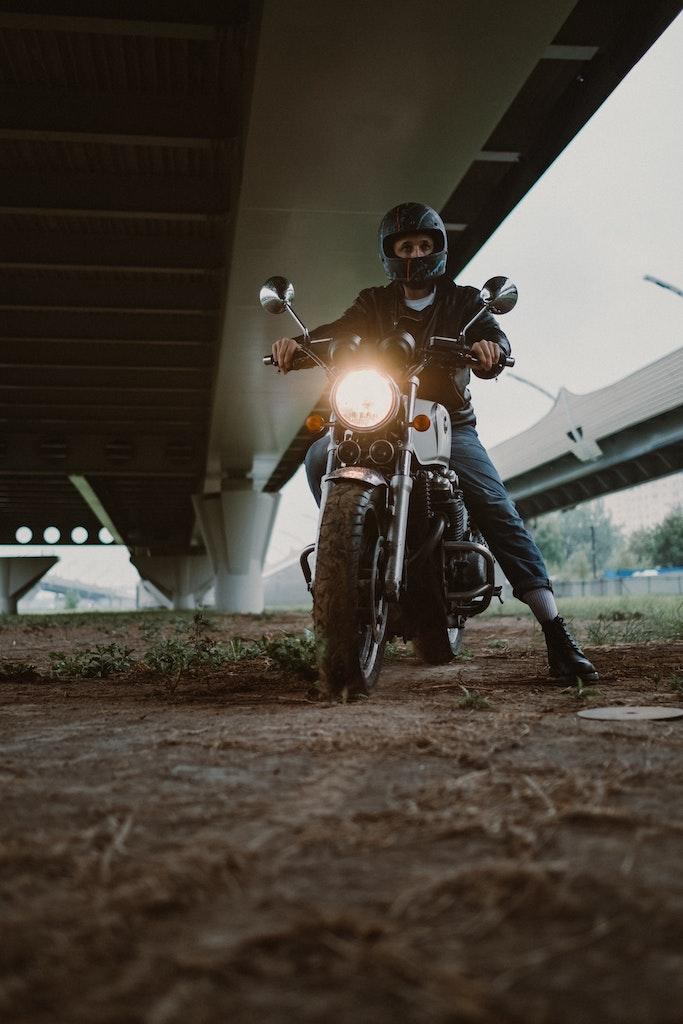helmet: (376, 200, 449, 286)
